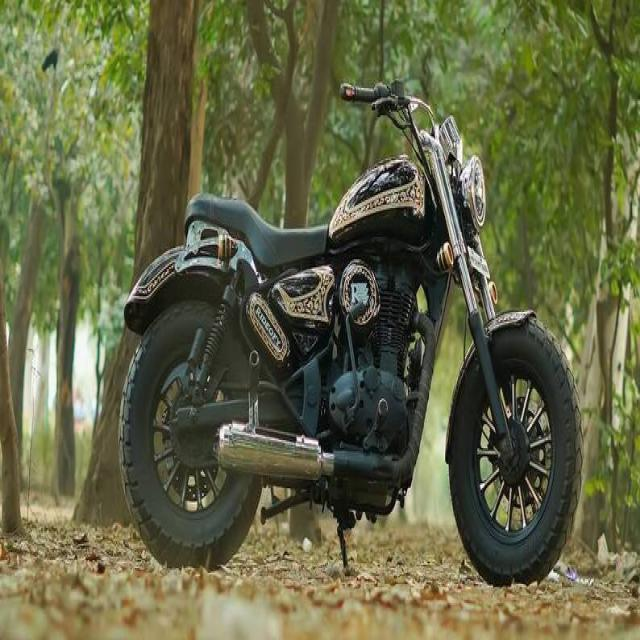Bike: (110, 72, 588, 587)
